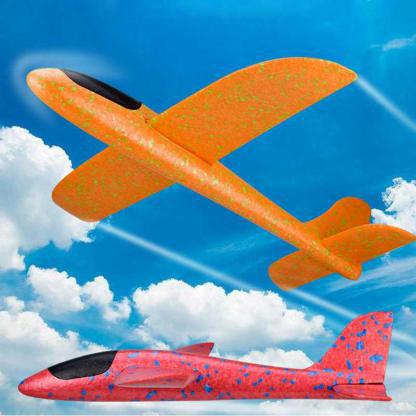CIV_Plane: (23, 57, 416, 292), (11, 310, 398, 404)
